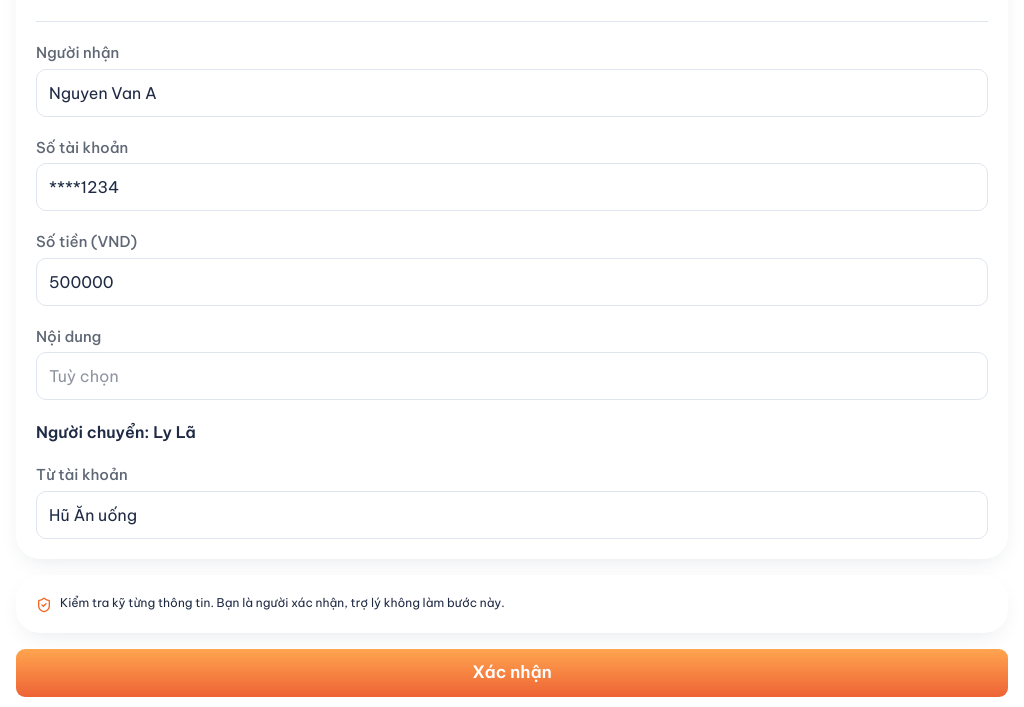
TransferConfirm — write-path / clock / preview edge fixes › H14/U1: a failed debit+record write shows an error — no success screen, no local txn, draft kept
(page scrolled)
Click the button with aria-label "Xác nhận chuyển tiền" at (512, 672), box [16,648,1008,696]
(page scrolled)
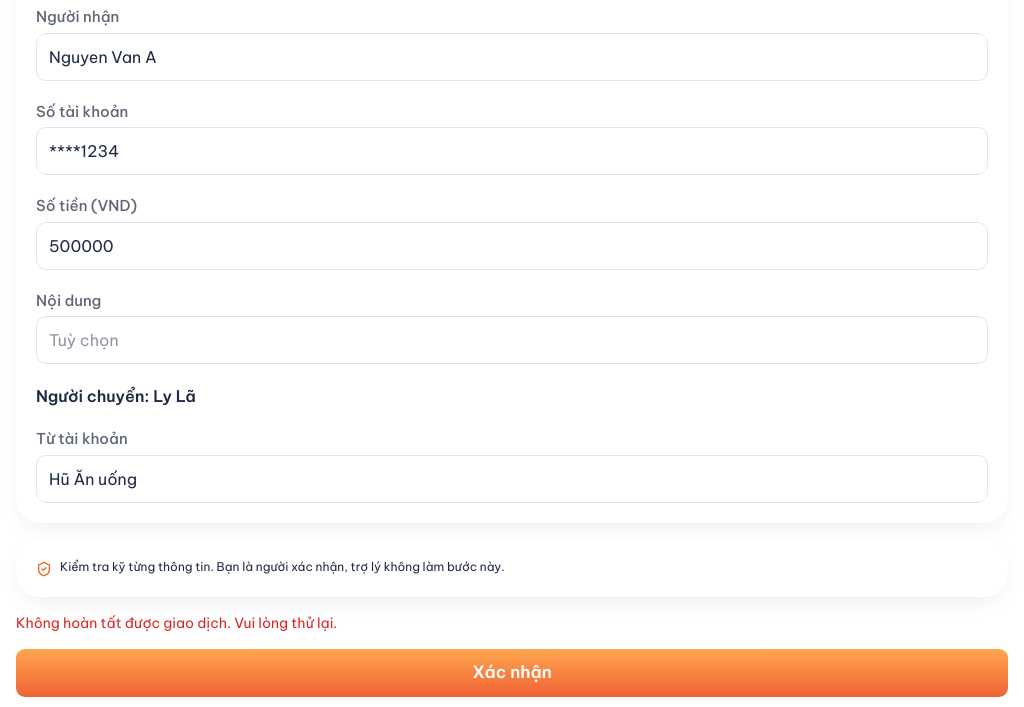
Check: the text "Chuyển tiền thành công" is not shown
Check: the text "Không hoàn tất được giao dịch. Vui lòng thử lại." is shown, box [16,614,337,632]
# Retry of the SAME transfer reuses the record id (server-side replay guard).
Click the button with aria-label "Xác nhận chuyển tiền" at (512, 672), box [16,648,1008,696]
(page scrolled)
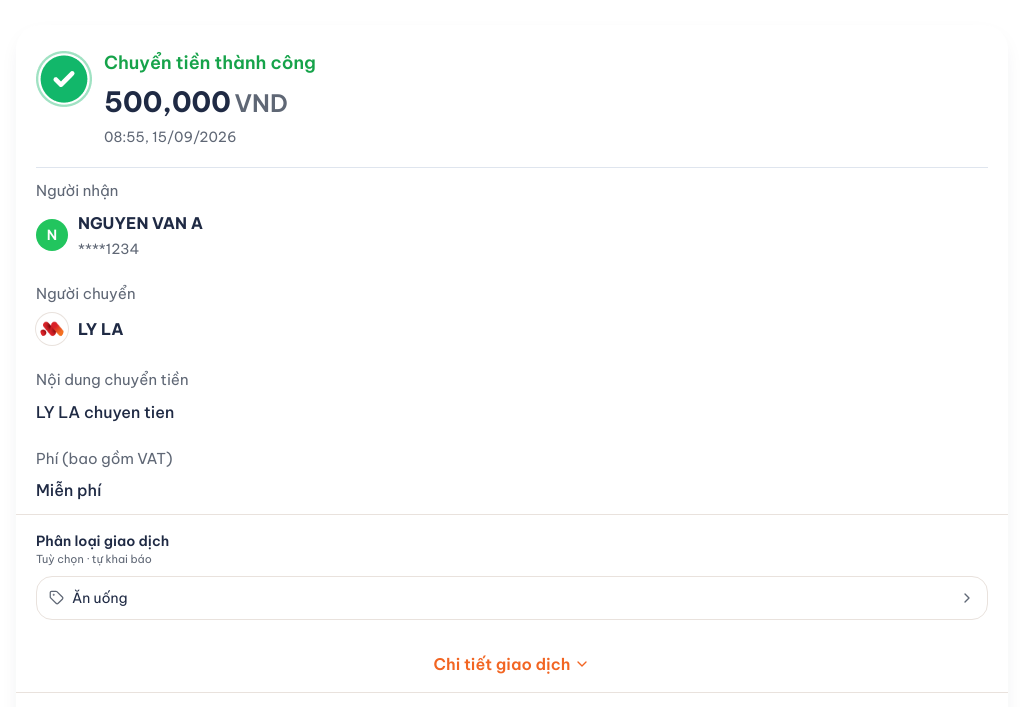
Check: the text "Chuyển tiền thành công" is shown, box [104,49,316,77]
